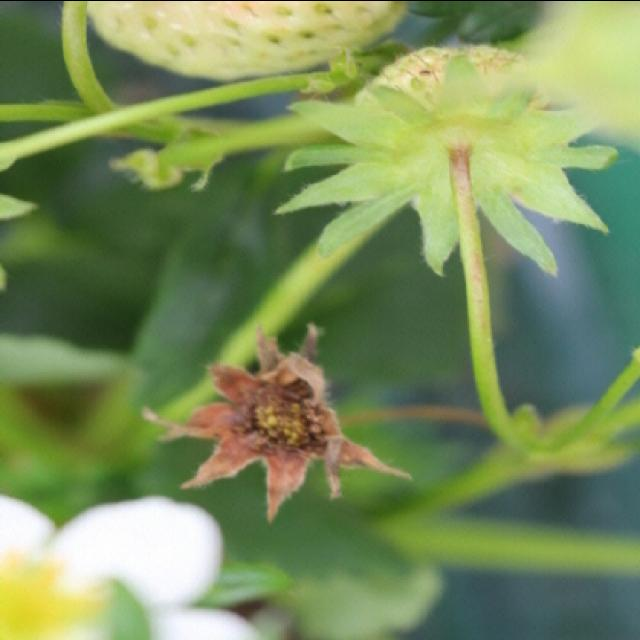Gray Mold: (141, 321, 415, 525)
